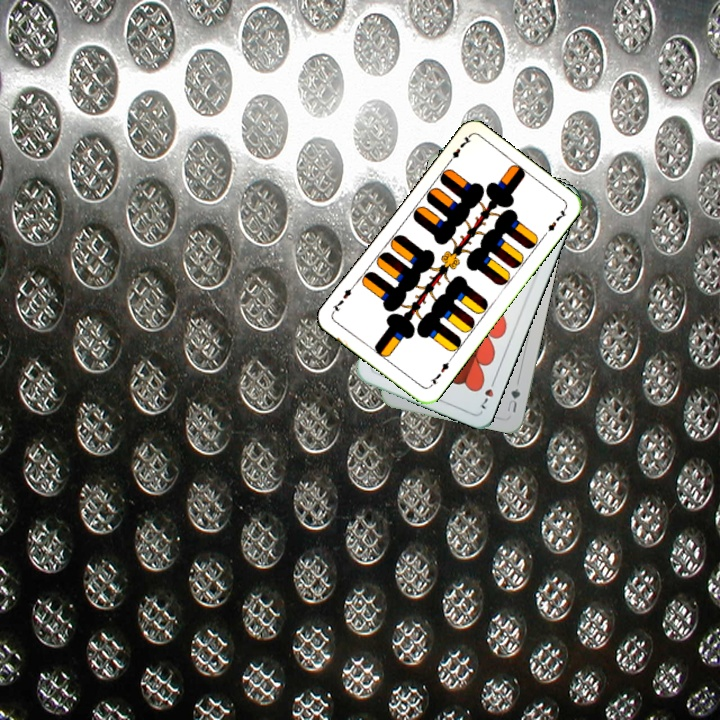E7: (443, 132, 474, 167), (425, 355, 454, 390)
GU: (503, 384, 523, 415)
H7: (475, 374, 498, 412)
